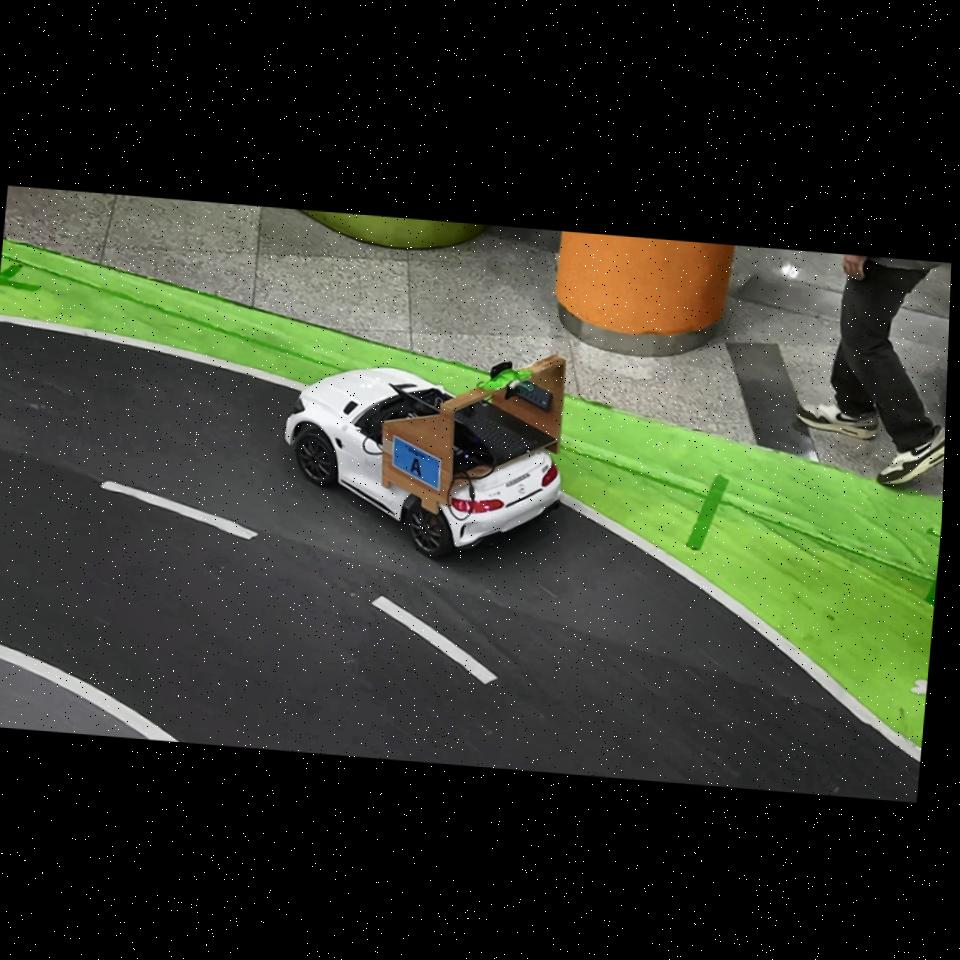broken_line: (371, 595, 498, 684), (100, 481, 259, 540)
